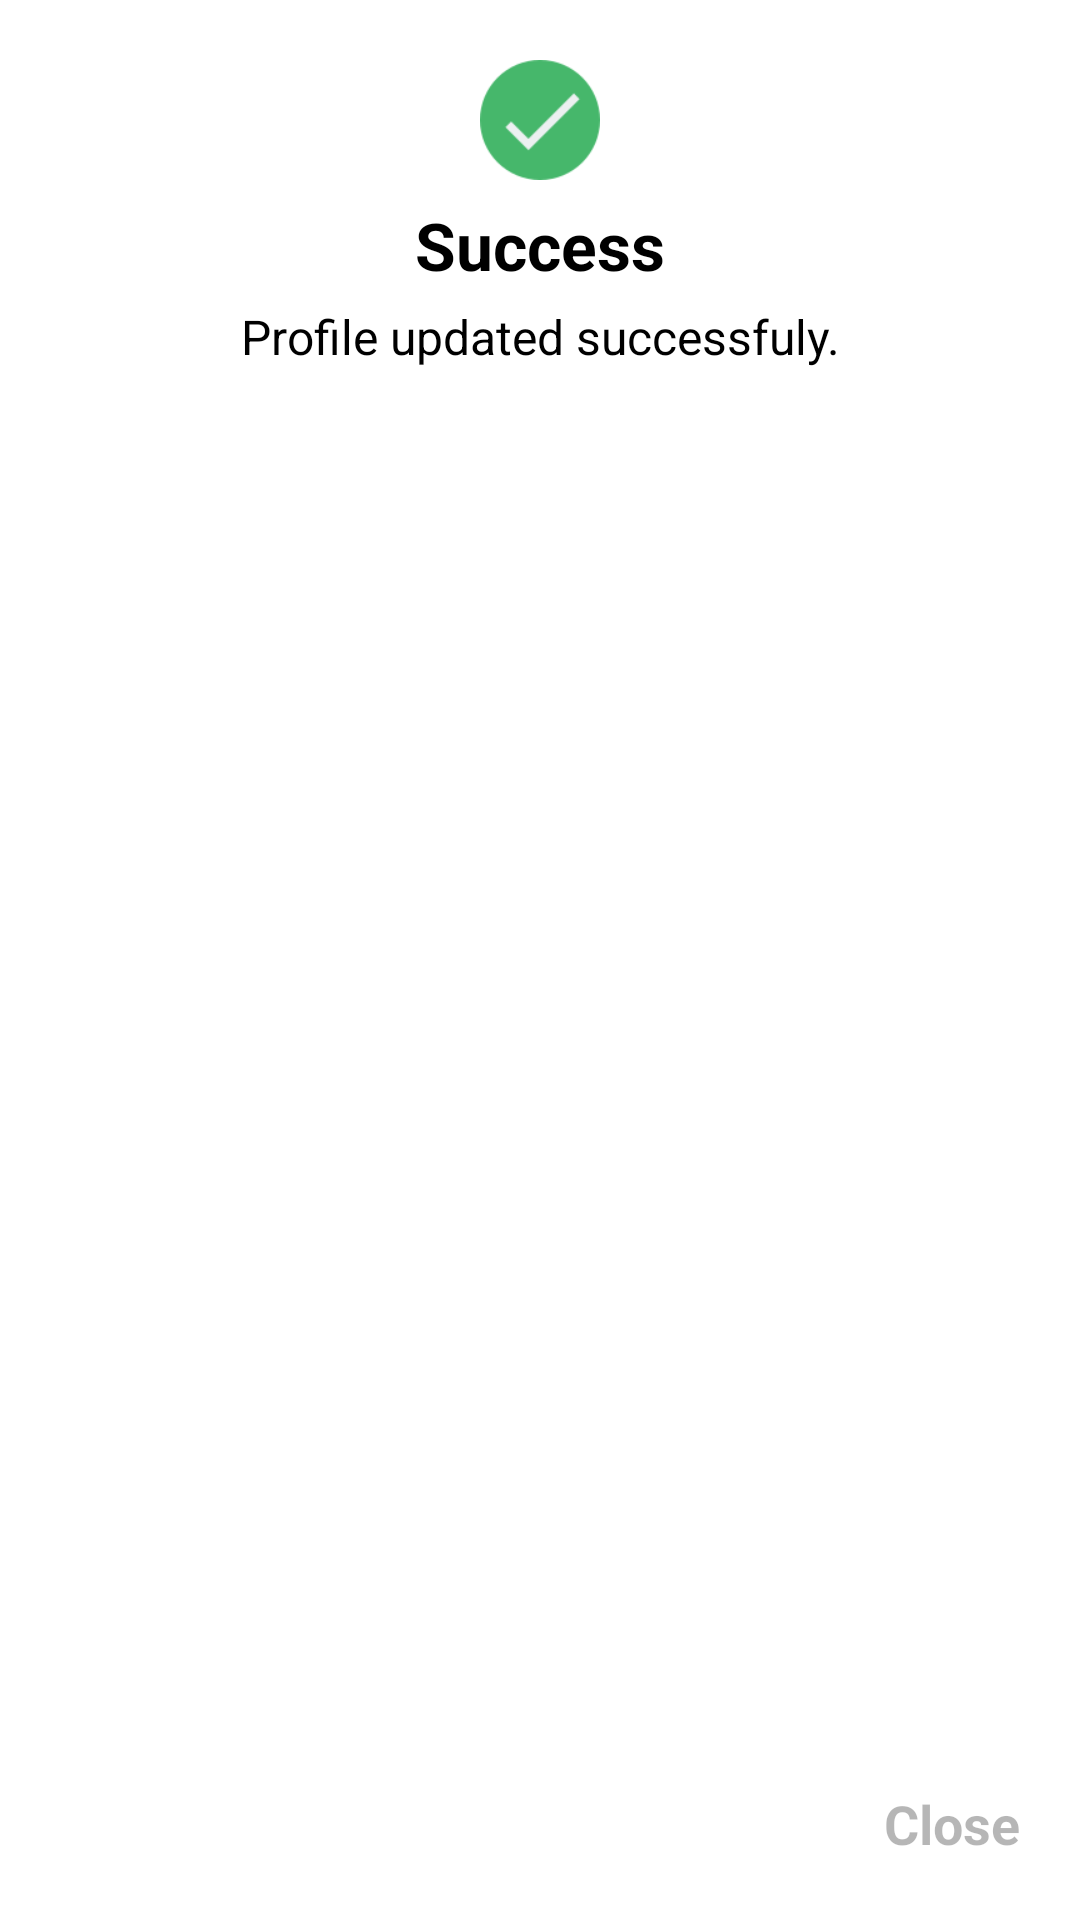

Icon bounding boxes for this 1080×1920 phone screenshot, format (x1, y1, x2, y2):
done: (480, 60, 600, 180)
